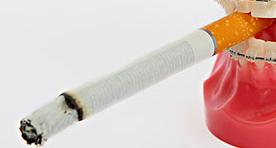smoke: (18, 14, 265, 147)
